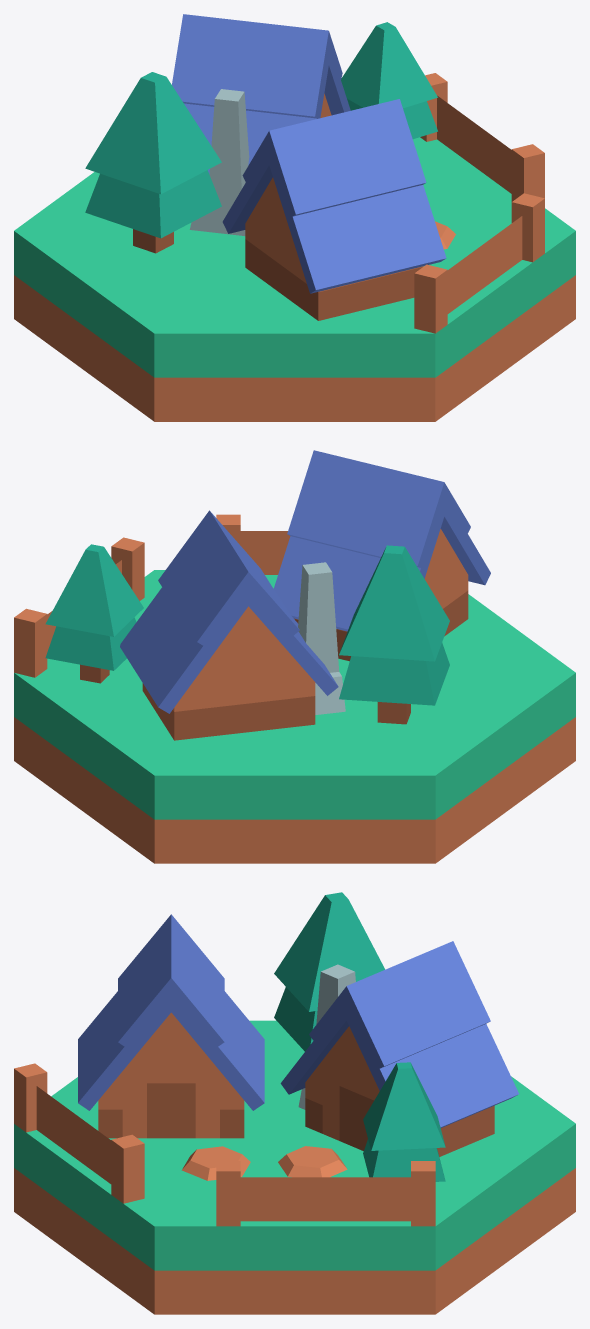
Rendered from building_village.dae.
3 views of the same model, one above another, from view 1: azimuth 30°, elevation 25°; view 2: azimuth 150°, elevation 25°; view 3: azimuth 270°, elevation 25° (orthographic).
Parts seen in each view (by area): view 1: building_village, building (×2), tree (×2), fence (×2), chimney; view 2: building_village, building (×2), tree (×2), fence (×2), chimney; view 3: building_village, building (×2), fence (×2), tree (×2), Group (×2), chimney.
Part boxes in pixels (bbox=[...]): building_village: bbox=[14, 137, 575, 421]; building (×2): bbox=[172, 14, 446, 320]; tree (×2): bbox=[85, 22, 437, 253]; fence (×2): bbox=[414, 73, 544, 333]; chimney: bbox=[189, 89, 249, 235]; building_village: bbox=[14, 570, 575, 863]; building (×2): bbox=[120, 450, 490, 740]; tree (×2): bbox=[45, 544, 449, 724]; fence (×2): bbox=[14, 514, 290, 677]; chimney: bbox=[298, 562, 345, 714]; building_village: bbox=[14, 1020, 575, 1314]; building (×2): bbox=[78, 914, 518, 1156]; fence (×2): bbox=[14, 1063, 435, 1226]; tree (×2): bbox=[274, 892, 445, 1181]; Group (×2): bbox=[182, 1146, 347, 1180]; chimney: bbox=[298, 964, 355, 1109].
Size of the model in its own units: 1 by 0.58 by 1.15.
